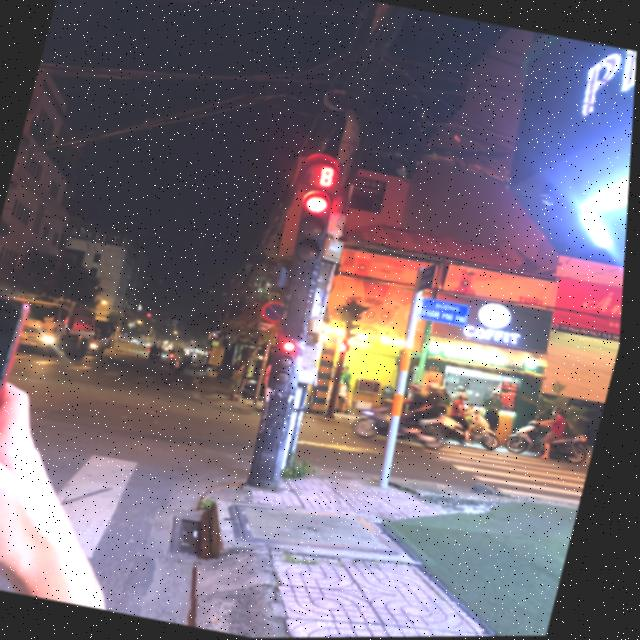Red: (288, 185, 345, 271), (272, 330, 310, 392)
